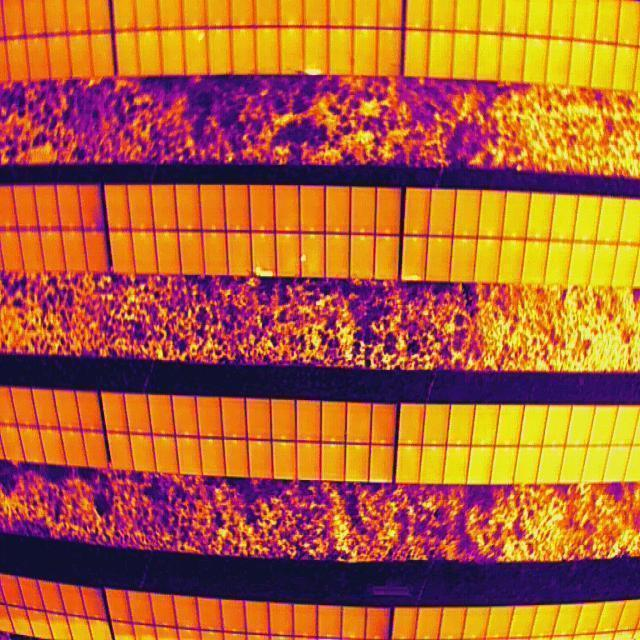hotspot: (254, 265, 277, 277), (303, 67, 326, 76), (403, 273, 425, 281), (301, 254, 308, 265)
